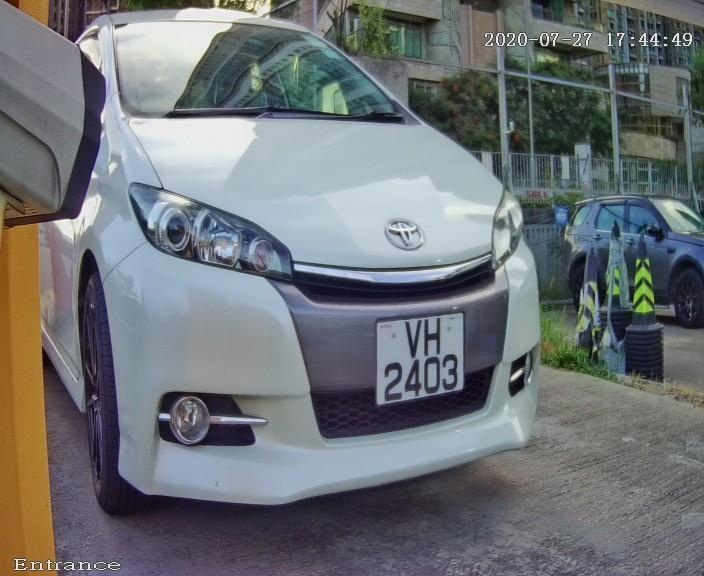privatecar: (35, 3, 598, 546)
